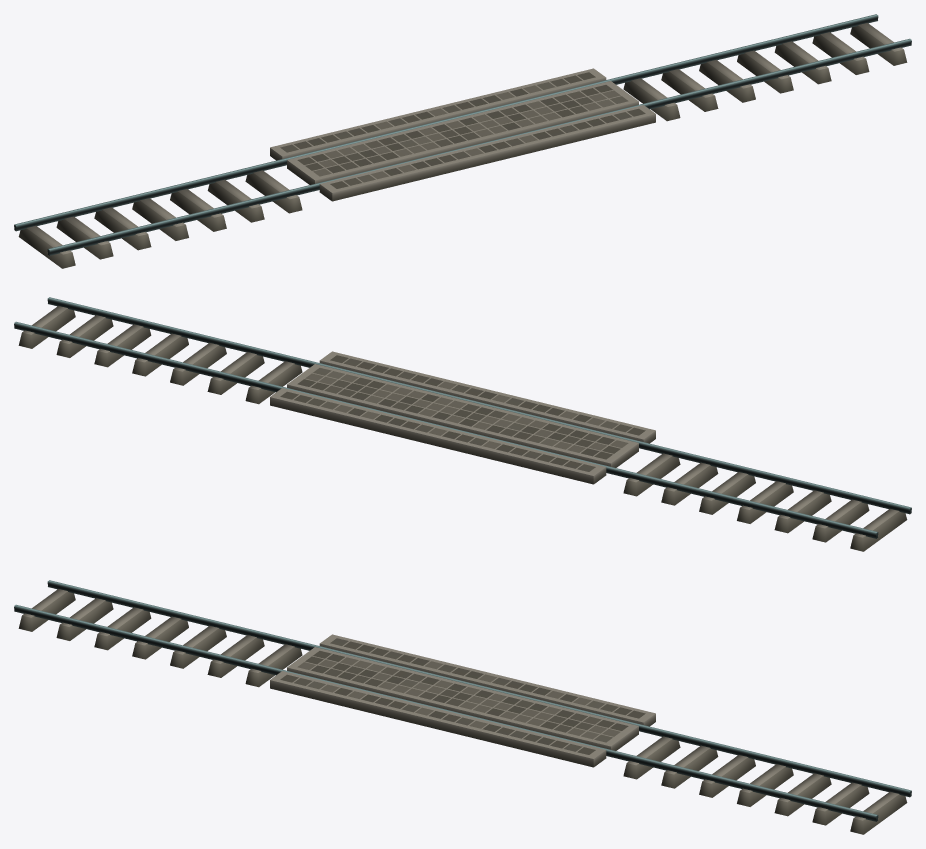
The model's file is Railroad_Crossing_2A.fbx.
3 renders of one model, top to bottom at view 1: azimuth 30°, elevation 25°; view 2: azimuth 150°, elevation 25°; view 3: azimuth 330°, elevation 25°, orthographic.
Parts seen in each view (by area): view 1: Railroad_Crossing_2A; view 2: Railroad_Crossing_2A; view 3: Railroad_Crossing_2A.
Part boxes in pixels (box(x1,y1,x2,y2)): Railroad_Crossing_2A: box(14, 14, 911, 268); Railroad_Crossing_2A: box(14, 297, 911, 551); Railroad_Crossing_2A: box(14, 580, 911, 834).
Size of the model in its own units: 31.94 by 0.6781 by 4.
